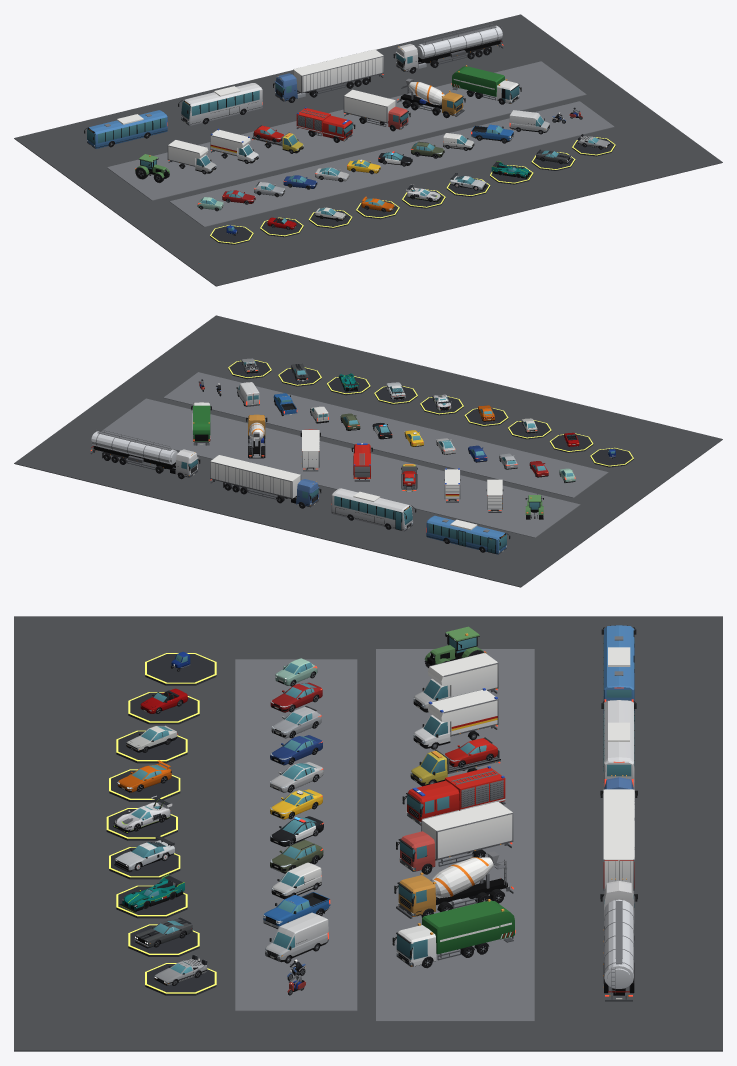
The model's file is ChillRoad_Showroom.glb.
The picture shows the model from 3 angles, top to bottom: view 1: azimuth 30°, elevation 25°; view 2: azimuth 150°, elevation 25°; view 3: azimuth 270°, elevation 25°; orthographic projection. The views are drawn at different scales.
Visible parts, largest first — view 1: Showroom_Floor, Showroom_Stages, Showroom_Podiums, Heavy_03, Heavy_04, Heavy_02, Heavy_01, Utility_06, Utility_08, Utility_07, Utility_05, Utility_02 (+6 smaller); view 2: Showroom_Floor, Showroom_Stages, Showroom_Podiums, Heavy_03, Heavy_04, Heavy_02, Heavy_01, Showroom_PodiumRings, Utility_08, Utility_07, Utility_06, Utility_05 (+4 smaller); view 3: Showroom_Floor, Showroom_Stages, Showroom_Podiums, Utility_06, Utility_08, Utility_07, Heavy_04, Utility_05, Heavy_03, Utility_03, Utility_02, Heavy_02 (+23 smaller).
Part boxes in pixels (bbox=[...]): Showroom_Floor: bbox=[14, 14, 722, 286]; Showroom_Stages: bbox=[107, 61, 614, 227]; Showroom_Podiums: bbox=[210, 138, 615, 244]; Heavy_03: bbox=[273, 49, 383, 102]; Heavy_04: bbox=[393, 24, 503, 73]; Heavy_02: bbox=[178, 83, 262, 125]; Heavy_01: bbox=[84, 110, 167, 148]; Utility_06: bbox=[343, 89, 410, 131]; Utility_08: bbox=[451, 65, 521, 104]; Utility_07: bbox=[397, 78, 465, 118]; Utility_05: bbox=[296, 107, 355, 142]; Utility_02: bbox=[167, 139, 216, 174]; Showroom_Floor: bbox=[14, 315, 722, 587]; Showroom_Stages: bbox=[101, 372, 608, 537]; Showroom_Podiums: bbox=[228, 360, 633, 467]; Heavy_03: bbox=[210, 455, 321, 508]; Heavy_04: bbox=[90, 429, 200, 479]; Heavy_02: bbox=[331, 488, 416, 531]; Heavy_01: bbox=[426, 515, 510, 554]; Showroom_PodiumRings: bbox=[228, 360, 633, 466]; Utility_08: bbox=[191, 402, 211, 445]; Utility_07: bbox=[246, 414, 267, 458]; Utility_06: bbox=[300, 429, 320, 471]; Utility_05: bbox=[351, 443, 372, 481]; Showroom_Floor: bbox=[14, 616, 722, 1051]; Showroom_Stages: bbox=[235, 649, 534, 1021]; Showroom_Podiums: bbox=[106, 654, 216, 995]; Utility_06: bbox=[396, 801, 513, 874]; Utility_08: bbox=[392, 899, 515, 968]; Utility_07: bbox=[394, 851, 513, 918]; Heavy_04: bbox=[600, 878, 637, 1001]; Utility_05: bbox=[402, 766, 505, 825]; Heavy_03: bbox=[600, 775, 637, 890]; Utility_03: bbox=[413, 688, 498, 749]; Utility_02: bbox=[413, 652, 498, 712]; Heavy_02: bbox=[601, 700, 636, 789].
Bounding box in the file's own units: 84 × 4.13 × 58.
Materials: 41 (30 with a texture image).
